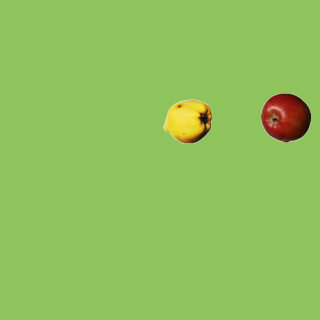Apple Braeburn: (260, 92, 310, 142)
Quince: (162, 96, 212, 146)
